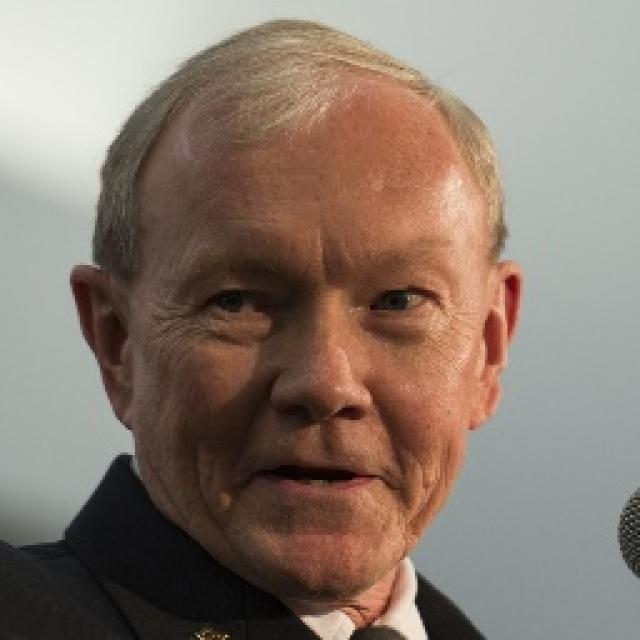earlobe: (69, 264, 133, 432), (470, 261, 526, 427)
